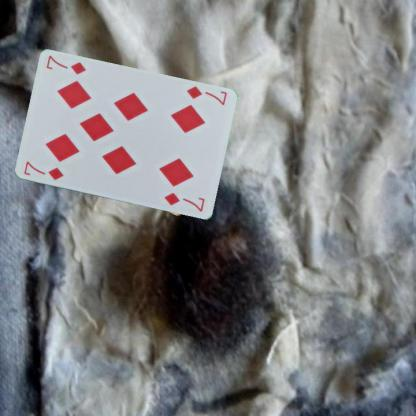7d: (183, 83, 228, 107), (21, 158, 64, 182)
